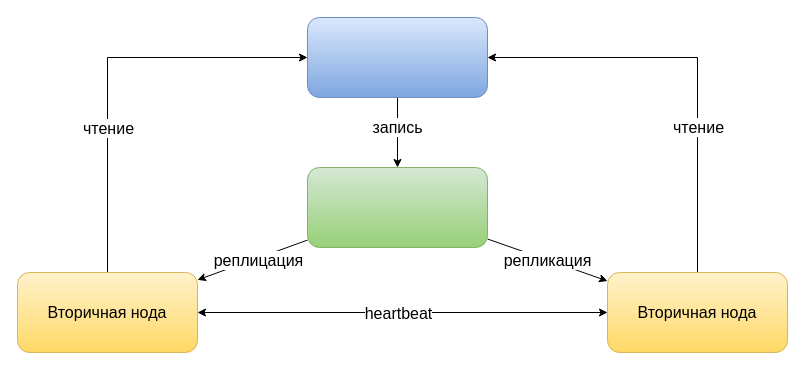
Image size: 805x370. Some labels were removed from this diagram. Each missing label, with the centre of its shape:
Основная нода: point (397, 207)
Приложение: point (397, 57)
